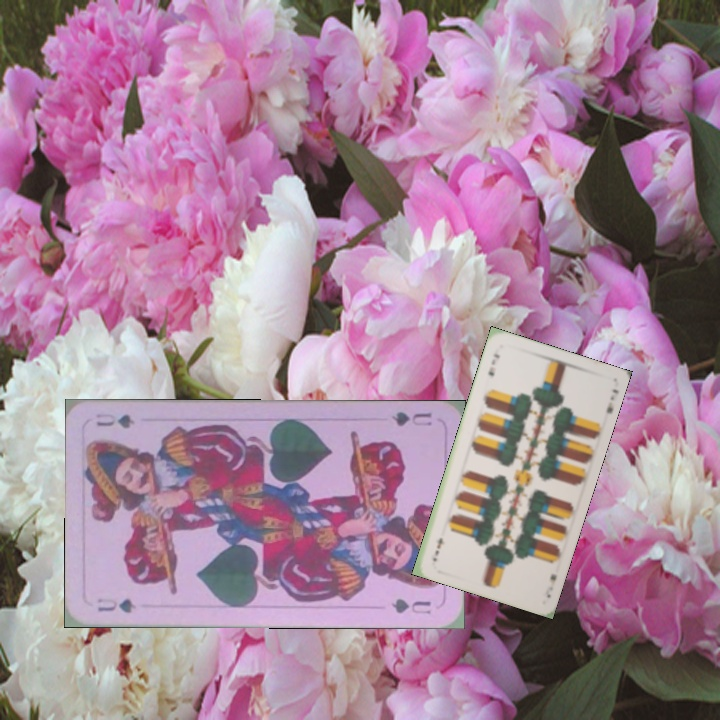E7: (484, 349, 503, 379), (541, 570, 559, 601)
GU: (387, 407, 434, 429), (93, 594, 139, 616)
